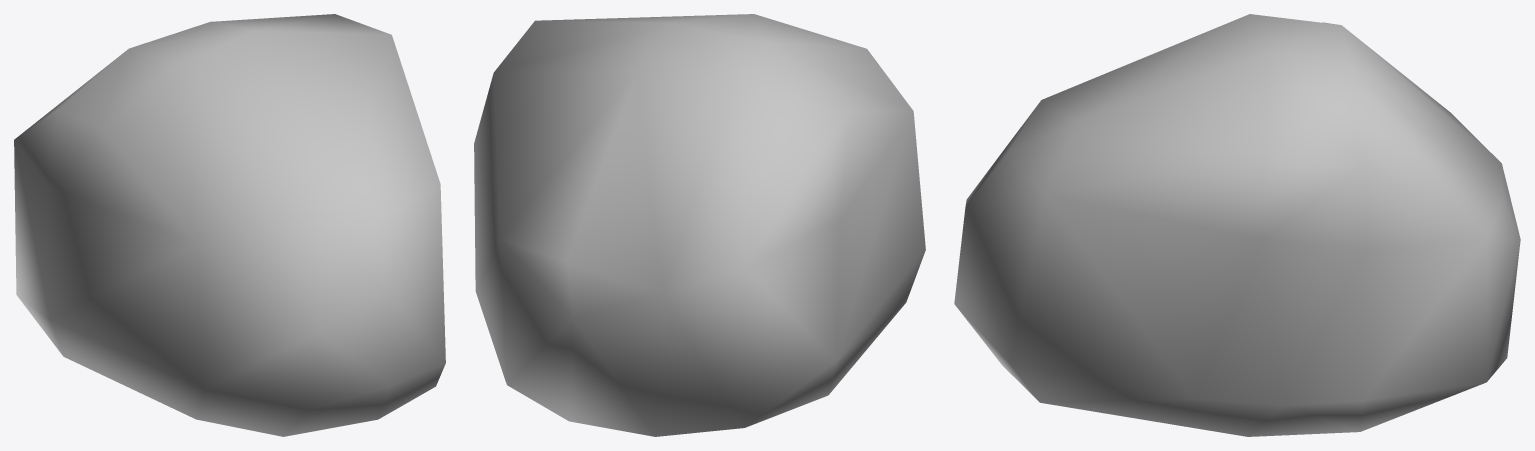
Rendered from Stone1.fbx.
3 renders of one model, left to right at view 1: azimuth 30°, elevation 25°; view 2: azimuth 150°, elevation 25°; view 3: azimuth 270°, elevation 25°, orthographic. The views are drawn at different scales.
Parts seen in each view (by area): view 1: Piedra_1; view 2: Piedra_1; view 3: Piedra_1.
Boxes of the visible parts, x1,y1,x2,y2 form: Piedra_1: [14, 14, 445, 436]; Piedra_1: [474, 14, 925, 436]; Piedra_1: [954, 14, 1520, 436].
Size of the model in its own units: 4.81 by 4.43 by 6.63.
